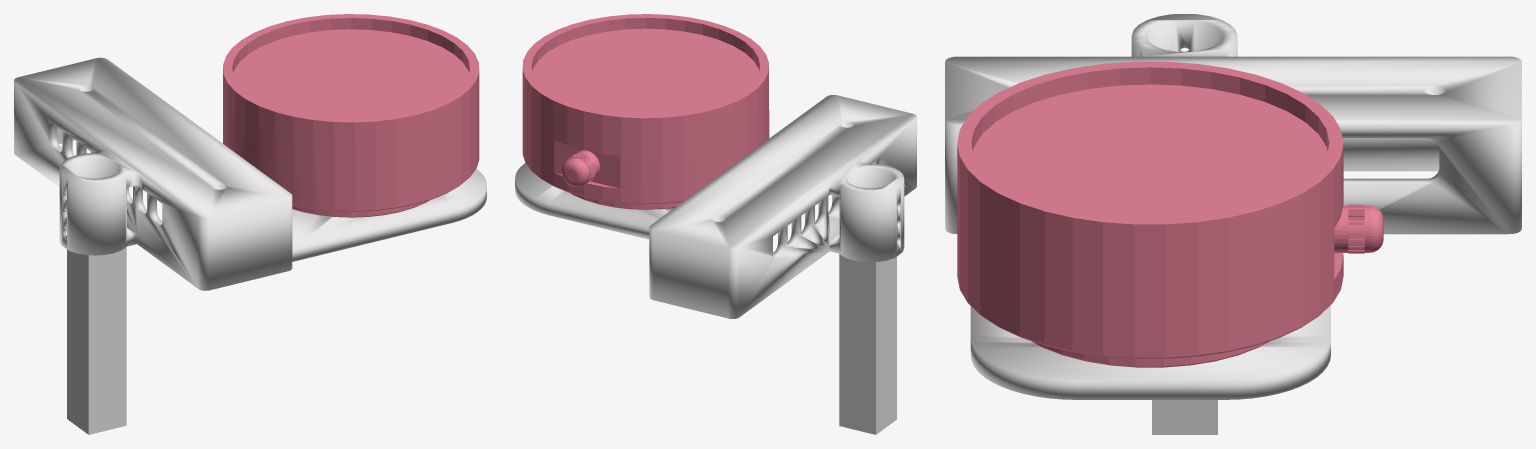
The picture shows the model from 3 angles, left to right: view 1: azimuth 30°, elevation 25°; view 2: azimuth 150°, elevation 25°; view 3: azimuth 270°, elevation 25°; orthographic projection. The views are drawn at different scales.
Parts seen in each view (by area): view 1: intel435i_dobot_cr5-2.001, Link6.001, Cube; view 2: intel435i_dobot_cr5-2.001, Link6.001, Cube; view 3: Link6.001, intel435i_dobot_cr5-2.001, Cube.
Part boxes in pixels (box(x1,y1,x2,y2)): intel435i_dobot_cr5-2.001: box(14, 57, 486, 290); Link6.001: box(223, 14, 479, 217); Cube: box(67, 247, 126, 434); intel435i_dobot_cr5-2.001: box(515, 95, 916, 318); Link6.001: box(522, 14, 769, 209); Cube: box(839, 254, 896, 434); Link6.001: box(957, 61, 1383, 367); intel435i_dobot_cr5-2.001: box(945, 14, 1521, 399); Cube: box(1152, 400, 1217, 434).
Size of the model in its own units: 0.1421 by 0.1224 by 0.1068.
